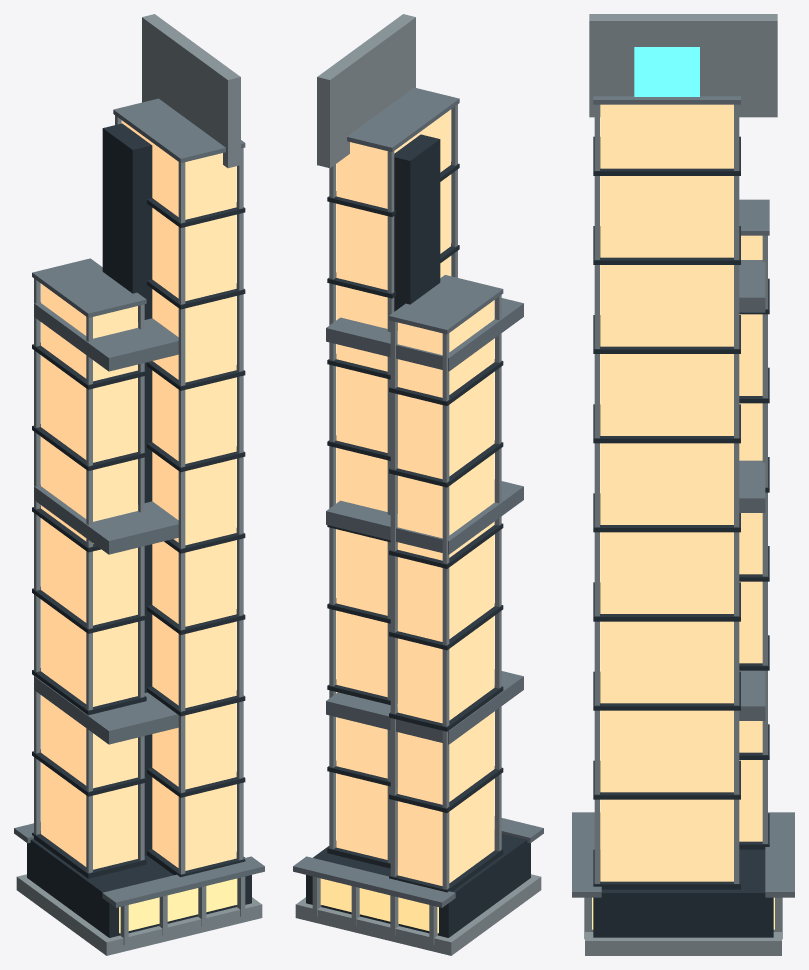
File: vrx_city_hotel_a_LOD1.fbx
3 views of the same model, side by side, from view 1: azimuth 30°, elevation 25°; view 2: azimuth 150°, elevation 25°; view 3: azimuth 270°, elevation 25° (orthographic). The views are drawn at different scales.
Parts seen in each view (by area): view 1: vrx_city_hotel_a_LOD1; view 2: vrx_city_hotel_a_LOD1; view 3: vrx_city_hotel_a_LOD1.
Boxes of the visible parts, x1,y1,x2,y2 form: vrx_city_hotel_a_LOD1: [14, 14, 264, 955]; vrx_city_hotel_a_LOD1: [293, 14, 543, 955]; vrx_city_hotel_a_LOD1: [572, 14, 794, 955].
Size of the model in its own units: 24 by 124 by 27.2.
